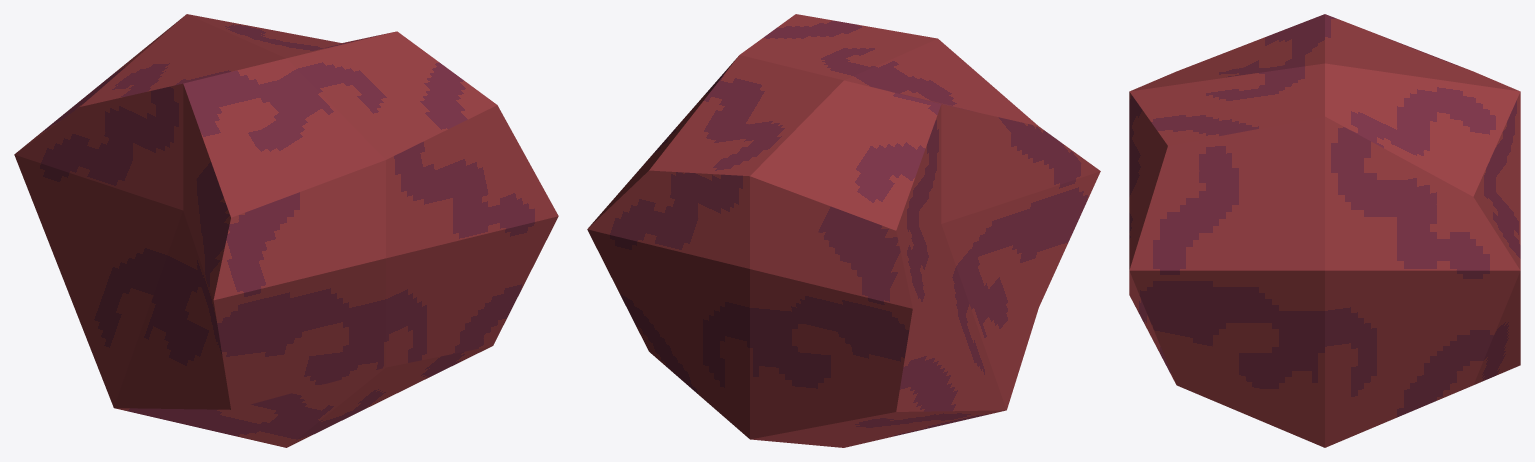
File: gib_b.glb
3 renders of one model, left to right at view 1: azimuth 30°, elevation 25°; view 2: azimuth 150°, elevation 25°; view 3: azimuth 270°, elevation 25°, orthographic. The views are drawn at different scales.
Visible parts, largest first — view 1: Cube.183; view 2: Cube.183; view 3: Cube.183.
Boxes of the visible parts, x1,y1,x2,y2 form: Cube.183: (14, 14, 558, 447); Cube.183: (587, 14, 1100, 447); Cube.183: (1129, 14, 1520, 447).
Size of the model in its own units: 2 by 2.16 by 2.
1 material, 1 textured.
